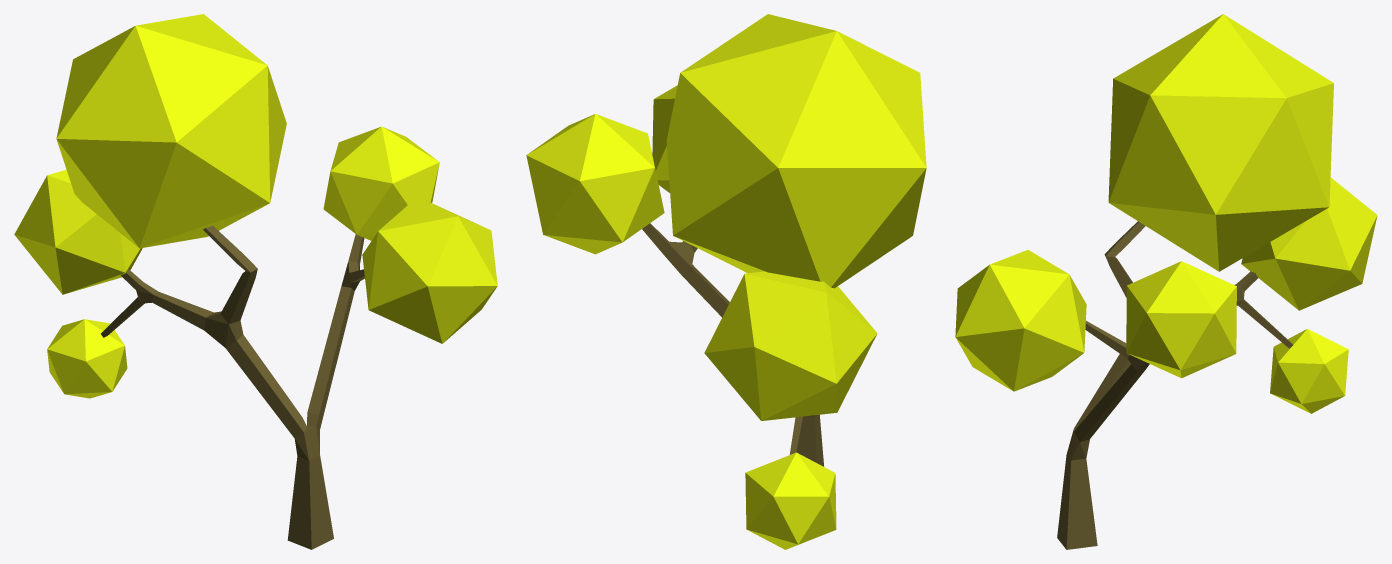
File: PohonWarnaKuning.fbx
The picture shows the model from 3 angles, left to right: view 1: azimuth 30°, elevation 25°; view 2: azimuth 150°, elevation 25°; view 3: azimuth 270°, elevation 25°; orthographic projection. The views are drawn at different scales.
Visible parts, largest first — view 1: Icosphere.010; view 2: Icosphere.010; view 3: Icosphere.010.
Boxes of the visible parts, bbox=[...] form: Icosphere.010: bbox=[14, 14, 497, 549]; Icosphere.010: bbox=[526, 14, 926, 549]; Icosphere.010: bbox=[955, 14, 1377, 549].
Size of the model in its own units: 858 by 1126 by 898.
